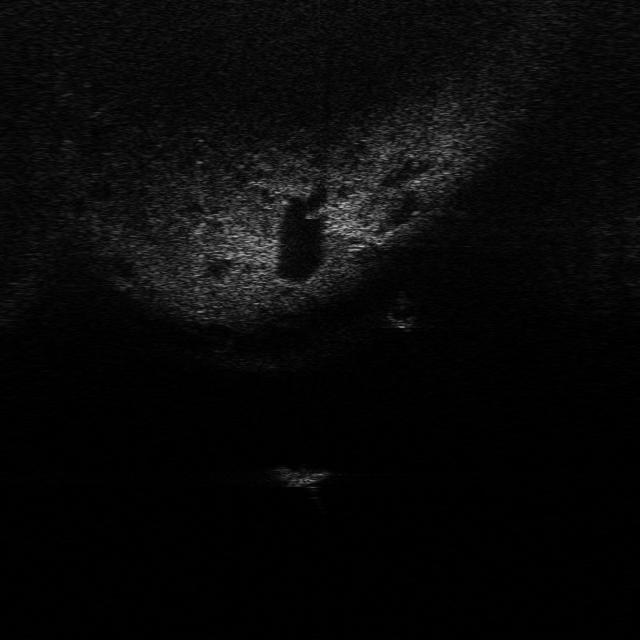ball: (381, 295, 423, 328)
cube: (270, 460, 334, 490)
